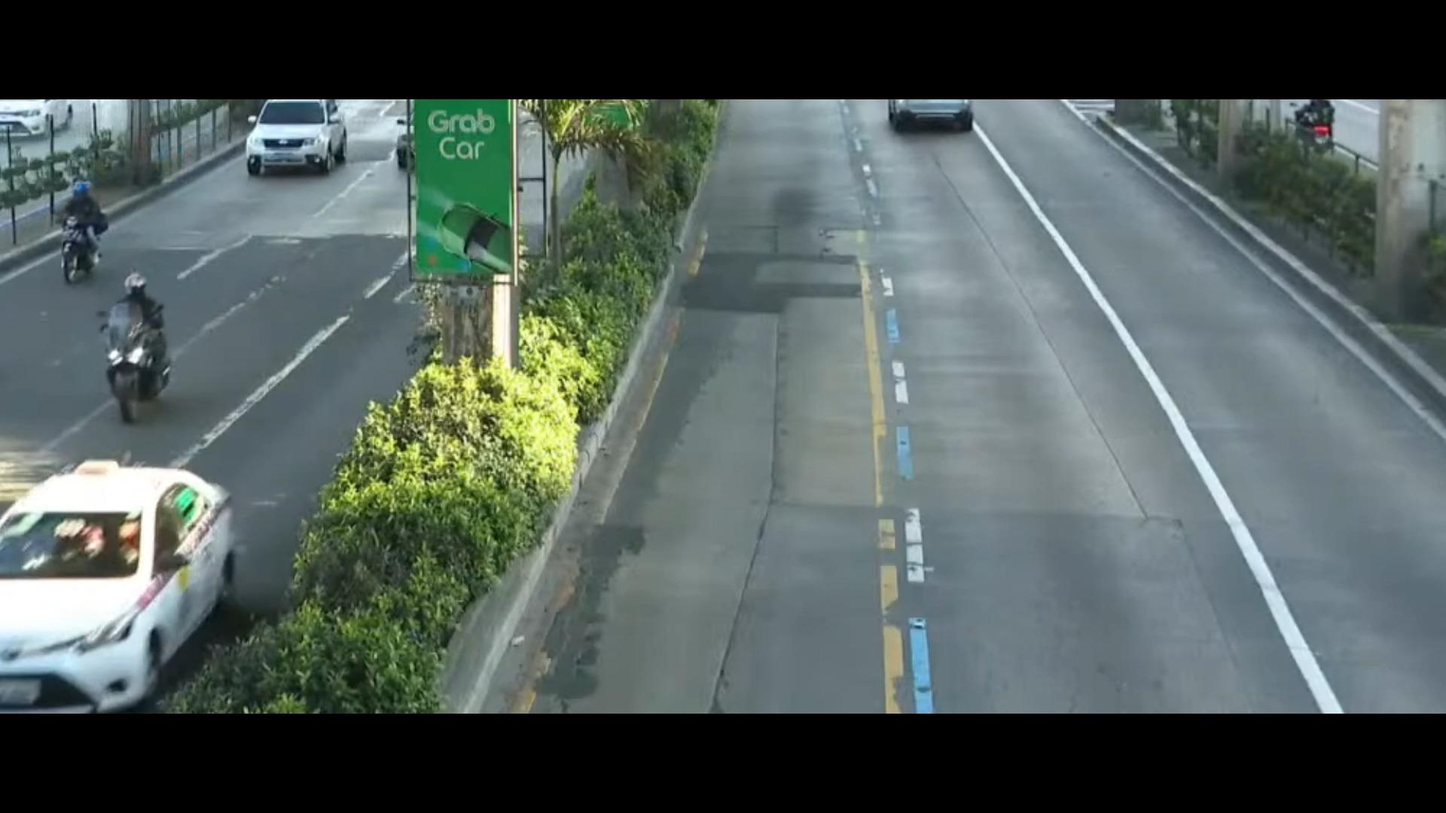Motorcycle: (84, 266, 164, 432), (27, 161, 124, 291)
SUV: (244, 96, 353, 183)
Sedan: (0, 458, 260, 703)
